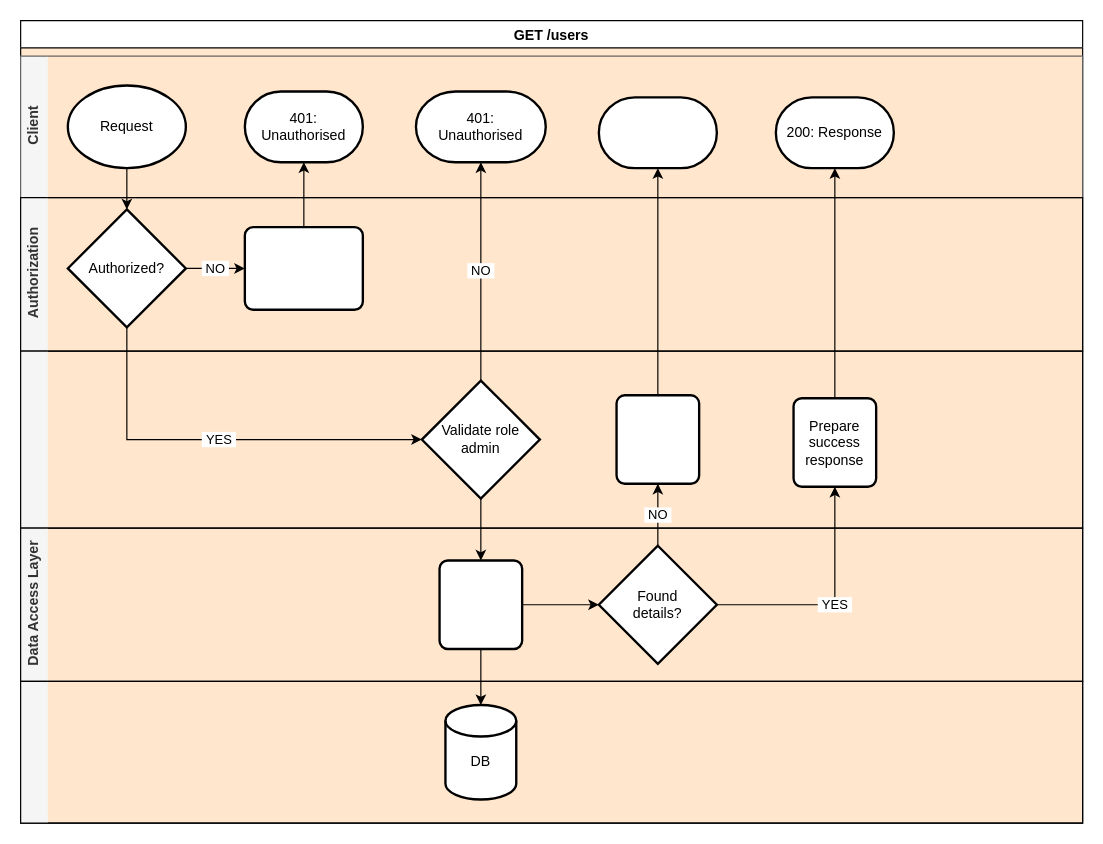
The diagram is 1103 pixels wide and 844 high, and some of its shapes have lost their labels. Here are the shapes that lost their labels. From the top down, the box of each, then its label:
(597, 96, 717, 169): 404: Not Found
(243, 225, 363, 310): Invalid Access Token
(19, 350, 1083, 528): API Endpoint
(615, 394, 700, 484): Prepare error response
(438, 559, 523, 650): Query User Accounts
(19, 680, 1083, 823): Database
